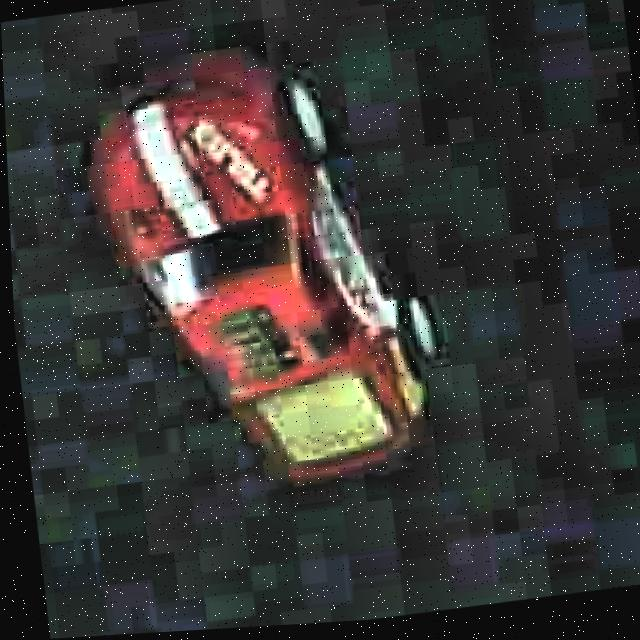car: (63, 12, 471, 523)
